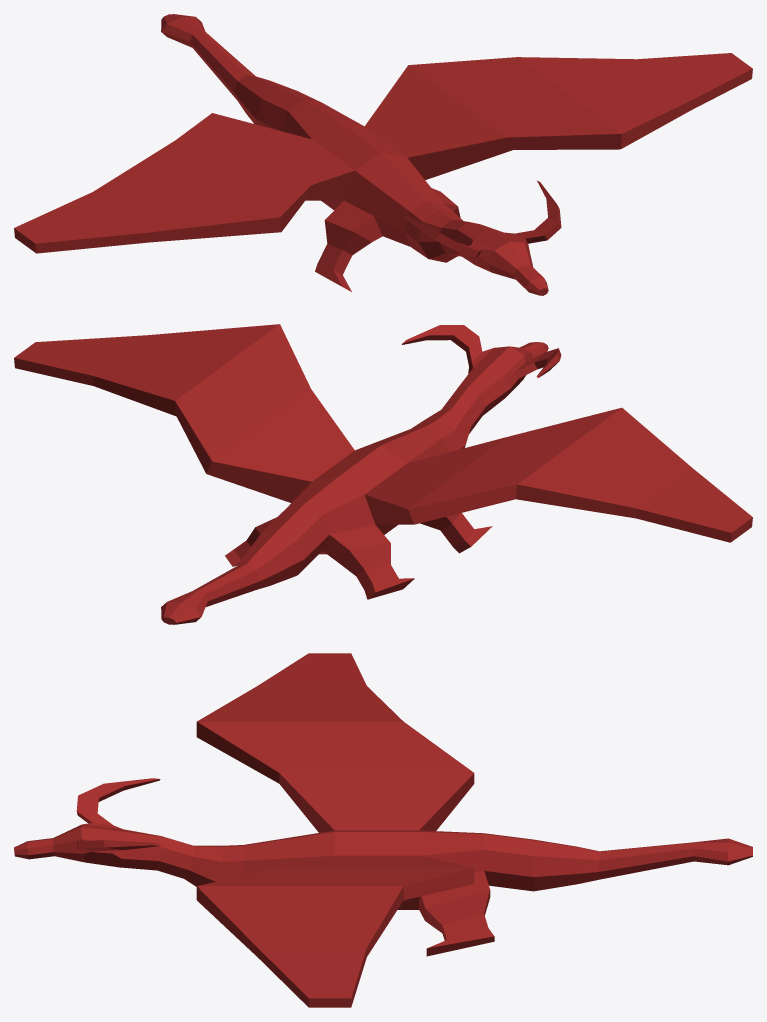
Rendered from dragon.gltf.
3 views of the same model, one above another, from view 1: azimuth 30°, elevation 25°; view 2: azimuth 150°, elevation 25°; view 3: azimuth 270°, elevation 25° (orthographic).
Visible parts, largest first — view 1: Cylinder; view 2: Cylinder; view 3: Cylinder.
Part boxes in pixels (x1,y1,x2,y2): Cylinder: (14,14,752,295); Cylinder: (14,324,752,624); Cylinder: (14,653,752,1007).
Bounding box in the file's own units: 10.96 × 1.88 × 9.92.
